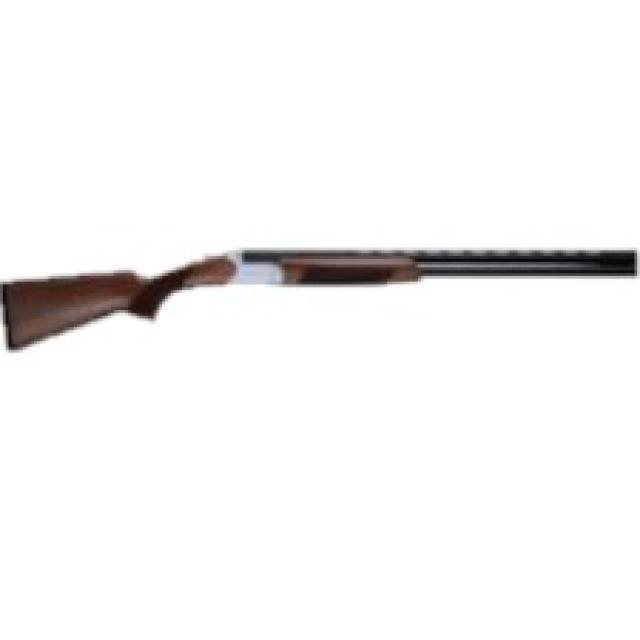rifle: (1, 243, 640, 364)
